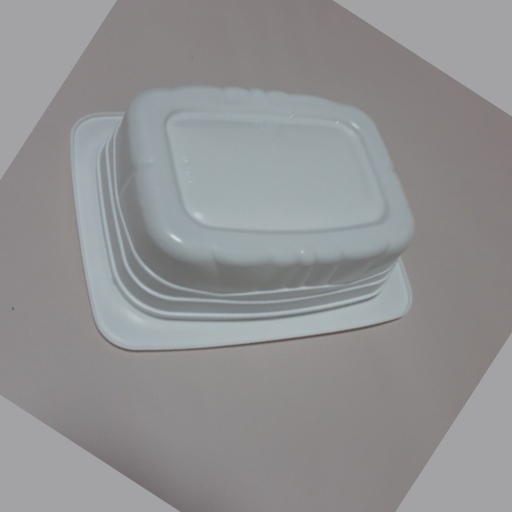Plastic_4: (69, 83, 414, 357)
